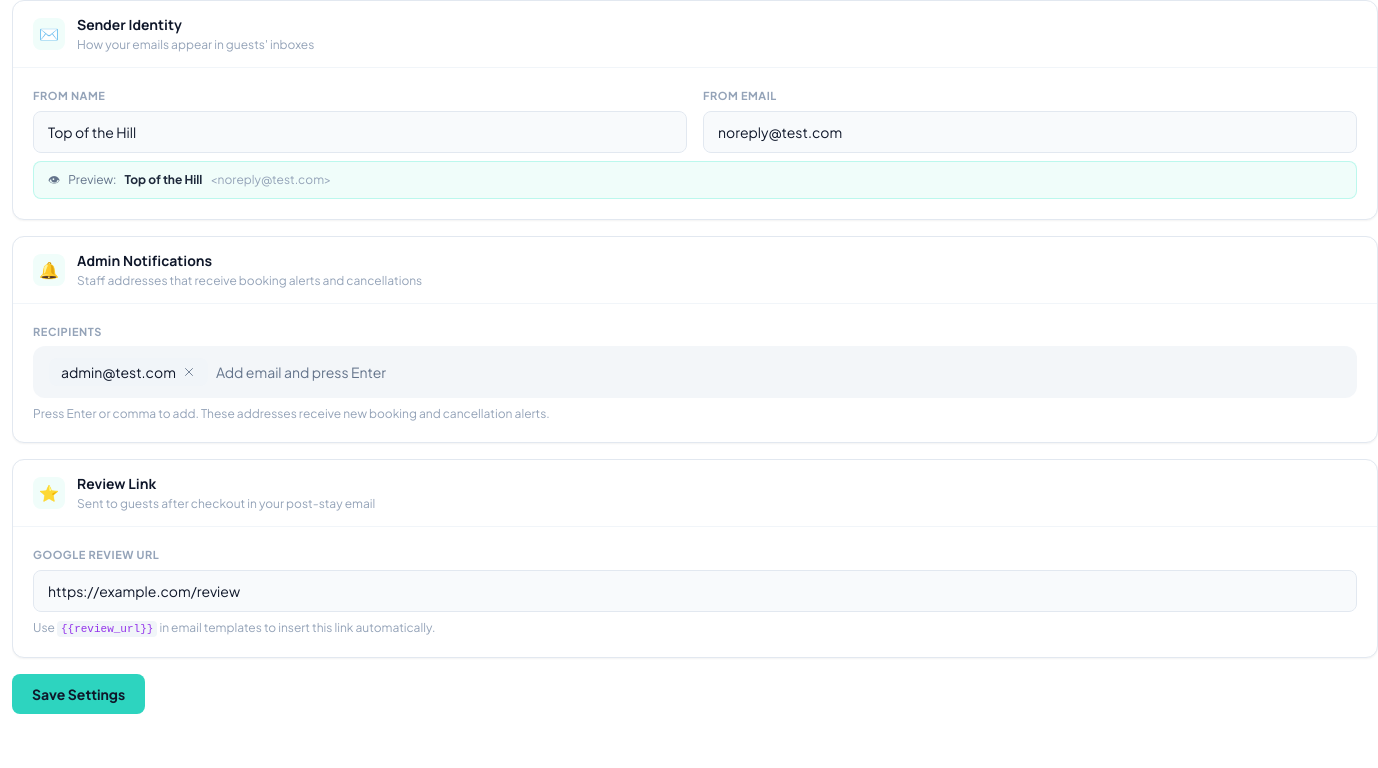
Test: EmailSettingsForm › shows error message on failure
Click the button "Save Settings".
click(79, 694)  # box x1=12 y1=674 x2=145 y2=714
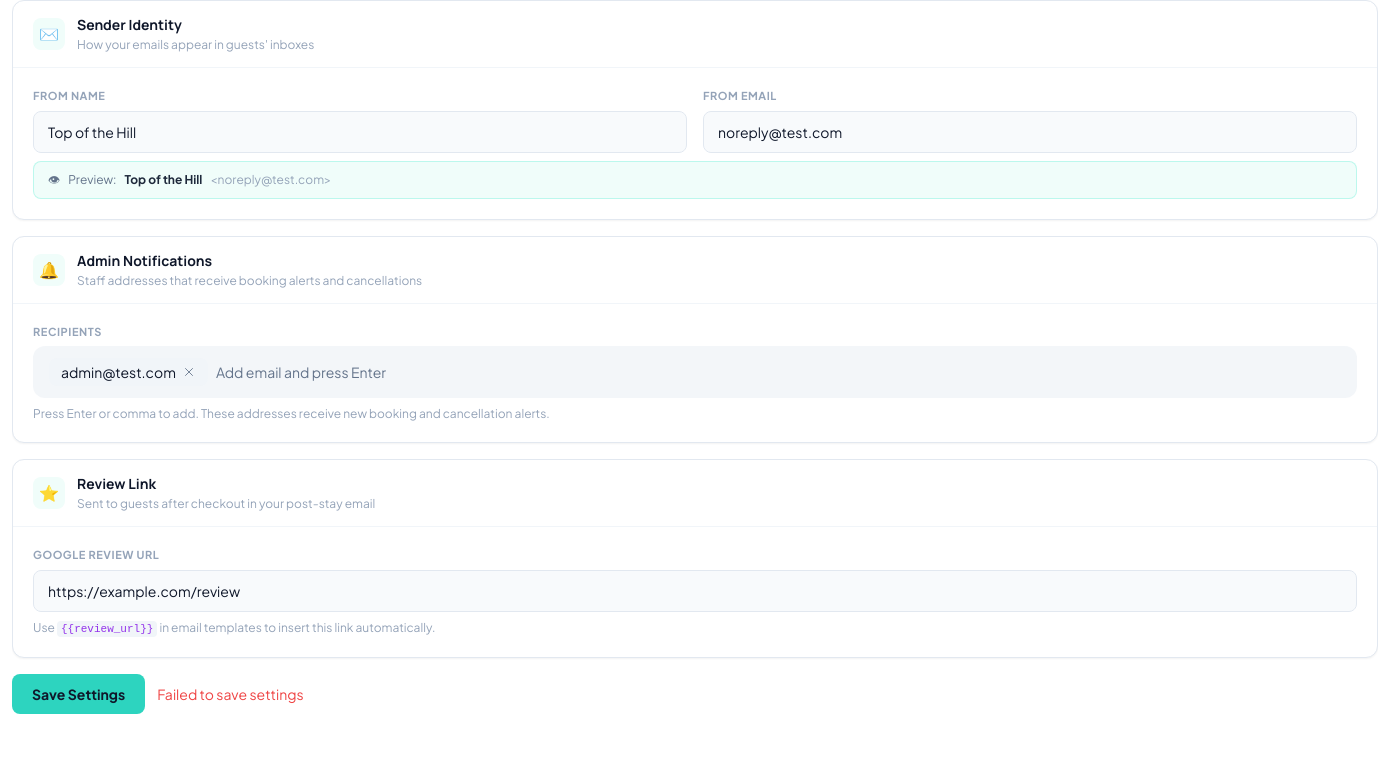
Check: the text "Failed to save settings" is shown, box x1=157 y1=684 x2=304 y2=704
